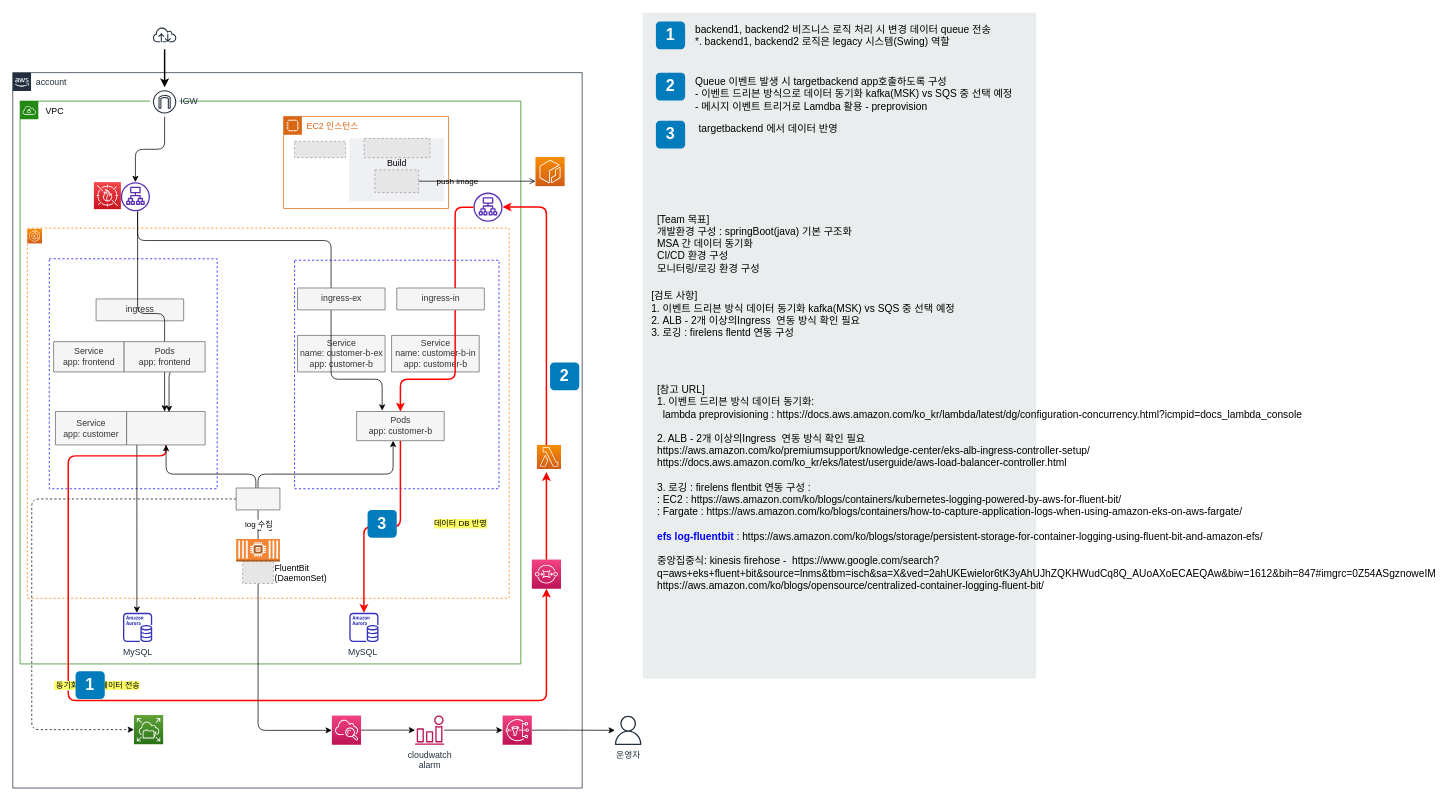
Some shapes in this 1449 by 801 pixel diagram are drawn without their labels. Grey dashed boxes stand in for pictures. The box of each missing label's shape, as (x1, y1, x2, y2) in pixels:
cloudwatch logs: (331, 715, 361, 745)
ECR: (535, 156, 565, 186)
EFS: (133, 714, 163, 744)
EKS cluster: (27, 228, 42, 243)
external: (120, 182, 150, 211)
internal: (473, 192, 502, 221)
Internet: (149, 19, 179, 49)
Namespace=customer-b-ns: (294, 260, 499, 489)
Namespace=customer-ns: (49, 258, 217, 489)
Pods app: customer: (126, 411, 205, 445)
PVC: (235, 487, 280, 510)
SNS (alarm 메일 방송): (502, 715, 532, 745)
SQS: (531, 559, 561, 589)
